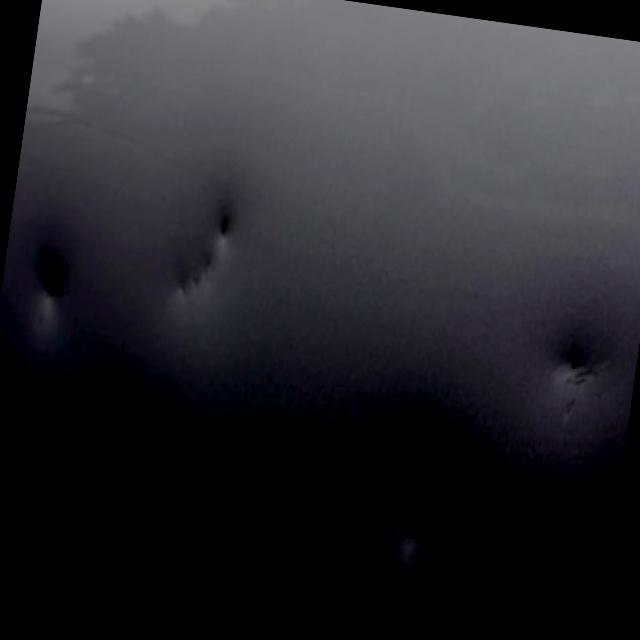dent: (148, 190, 244, 321), (548, 330, 606, 447), (21, 260, 82, 324), (389, 466, 433, 540)
